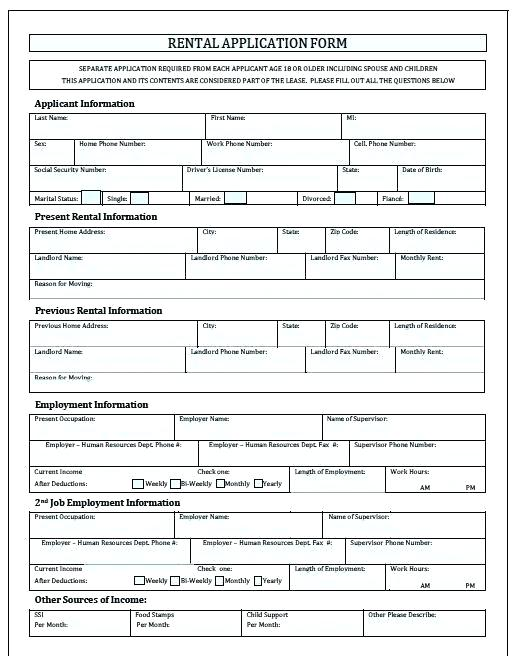checkbox: (405, 187, 437, 207), (332, 187, 358, 207), (78, 187, 104, 206), (221, 188, 249, 205), (129, 187, 151, 207), (168, 573, 182, 587), (131, 477, 146, 490), (167, 477, 182, 490), (132, 573, 147, 586), (214, 477, 227, 490), (213, 574, 226, 587), (252, 477, 264, 489), (253, 574, 262, 586)
textbox: (26, 369, 487, 395), (25, 276, 487, 301), (27, 462, 291, 496), (25, 563, 292, 594), (320, 507, 487, 542), (180, 160, 341, 196), (319, 411, 489, 444), (26, 438, 201, 470), (27, 111, 207, 142), (27, 225, 200, 257), (28, 318, 201, 350), (26, 534, 193, 567), (26, 343, 190, 376), (26, 162, 186, 195), (26, 251, 191, 283), (172, 508, 326, 542), (338, 109, 488, 143), (189, 534, 348, 566), (172, 410, 326, 443), (196, 437, 353, 468), (198, 136, 354, 167), (71, 135, 204, 171), (347, 135, 489, 168), (344, 535, 488, 567), (202, 111, 345, 143), (347, 437, 488, 469), (27, 510, 177, 540), (27, 412, 176, 442), (183, 248, 309, 283), (362, 605, 488, 640), (239, 606, 366, 640), (181, 343, 309, 376), (128, 606, 244, 639), (382, 462, 488, 496), (301, 247, 398, 283), (386, 222, 488, 256), (287, 462, 388, 495), (388, 317, 488, 350), (384, 560, 487, 592), (393, 342, 487, 377), (28, 607, 133, 638), (287, 561, 388, 593), (302, 343, 400, 375), (392, 250, 487, 283), (396, 161, 488, 193), (196, 223, 281, 256), (195, 317, 280, 349), (321, 222, 393, 257), (323, 317, 395, 350), (335, 162, 400, 194), (275, 222, 329, 257), (274, 317, 328, 349), (27, 136, 78, 168)
